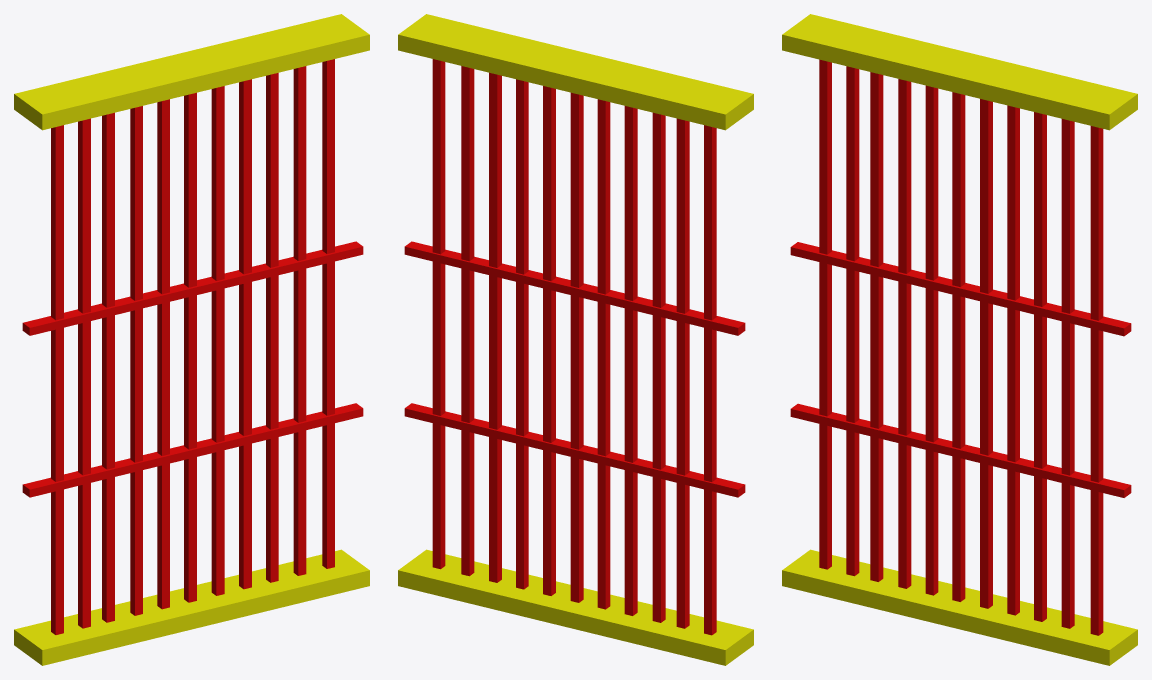
File: Fence.fbx
3 views of the same model, side by side, from view 1: azimuth 30°, elevation 25°; view 2: azimuth 150°, elevation 25°; view 3: azimuth 330°, elevation 25° (orthographic).
Visible parts, largest first — view 1: pCube28, pCube13, pCube29, pCube21, pCube30, pCube19, pCube17, pCube15, pCube31, pCube16, pCube33, pCube18 (+3 smaller); view 2: pCube28, pCube13, pCube19, pCube17, pCube16, pCube33, pCube18, pCube20, pCube29, pCube30, pCube15, pCube21 (+3 smaller); view 3: pCube28, pCube13, pCube17, pCube19, pCube29, pCube18, pCube33, pCube16, pCube20, pCube15, pCube30, pCube31 (+3 smaller).
Part boxes in pixels (x1,y1,x2,y2): pCube28: (14,14,369,130); pCube13: (14,549,369,665); pCube29: (293,66,306,575); pCube21: (211,86,224,595); pCube30: (266,73,278,582); pCube19: (184,92,196,602); pCube17: (102,112,114,622); pCube15: (51,125,63,634); pCube31: (239,79,251,589); pCube16: (78,118,90,628); pCube33: (322,59,334,568); pCube18: (130,106,142,615); pCube28: (398,14,753,130); pCube13: (398,549,753,665); pCube19: (570,92,583,602); pCube17: (652,112,665,622); pCube16: (676,118,689,628); pCube33: (432,59,445,569); pCube18: (624,106,637,615); pCube20: (597,99,610,609); pCube29: (461,66,474,576); pCube30: (489,72,501,582); pCube15: (704,125,716,635); pCube21: (543,86,555,595); pCube28: (782,14,1137,130); pCube13: (782,549,1137,665); pCube17: (870,72,883,581); pCube19: (952,92,965,601); pCube29: (1061,119,1074,628); pCube18: (898,79,911,588); pCube33: (1090,126,1103,635); pCube16: (846,66,859,576); pCube20: (925,85,938,595); pCube15: (819,59,831,569); pCube30: (1034,112,1046,621); pCube31: (1007,105,1019,615).
Bounding box in the file's own units: 214 × 338 × 31.34.
